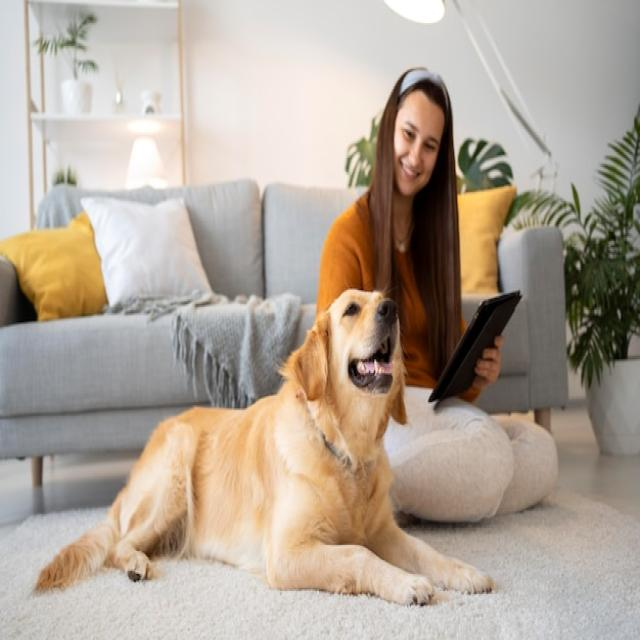Dog: (34, 288, 494, 606)
Person: (319, 65, 560, 524)
